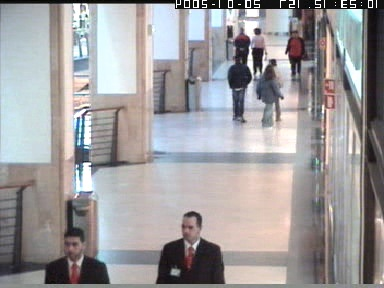person: (156, 212, 225, 284), (45, 227, 110, 285), (257, 65, 283, 127), (227, 56, 251, 122), (285, 29, 307, 81), (265, 58, 281, 123), (250, 27, 267, 73), (231, 29, 249, 69), (225, 8, 235, 39)
